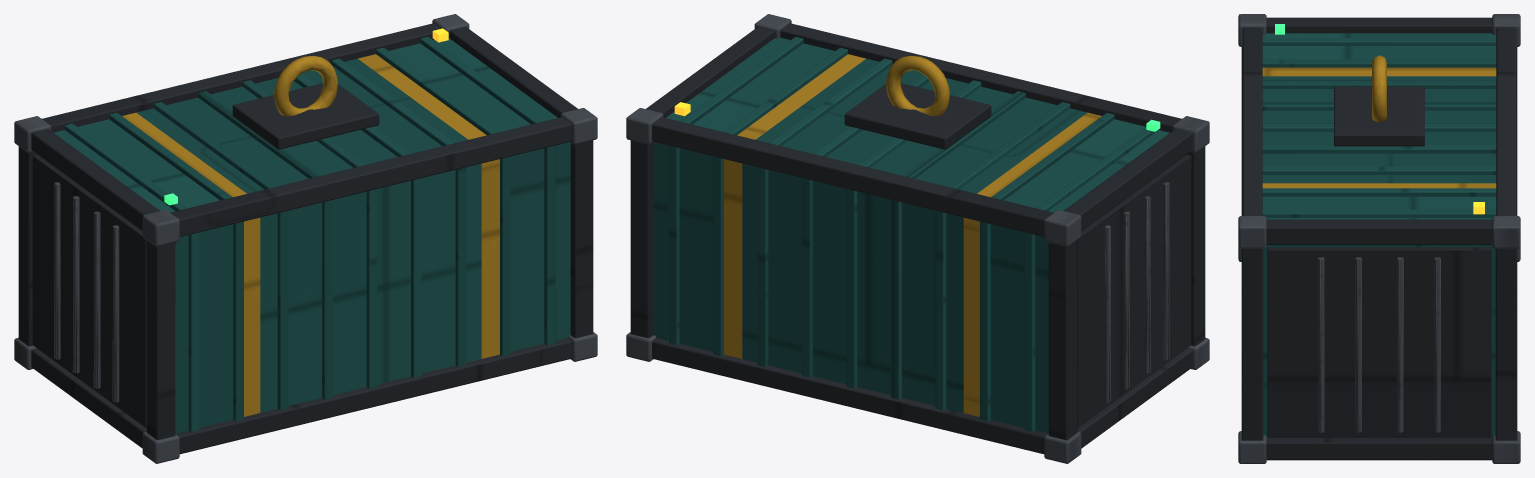
Rendered from place_cargo_pod_standard.glb.
3 renders of one model, left to right at view 1: azimuth 30°, elevation 25°; view 2: azimuth 150°, elevation 25°; view 3: azimuth 270°, elevation 25°, orthographic.
Visible parts, largest first — view 1: LOD0_Hull, LOD0_Armor, LOD0_Warning, LOD0_Mechanical, LOD1_Mechanical, LOD2_Mechanical, LOD2_Warning, LOD1_Armor; view 2: LOD0_Hull, LOD0_Armor, LOD0_Warning, LOD0_Mechanical, LOD1_Mechanical, LOD2_Mechanical, LOD2_Warning, LOD1_Armor; view 3: LOD0_Armor, LOD0_Hull, LOD0_Mechanical, LOD0_Warning, LOD1_Mechanical, LOD2_Mechanical, LOD1_Armor, LOD2_Armor, LOD2_Warning.
Part boxes in pixels (box(x1,y1,x2,y2)): LOD0_Hull: box(54, 37, 570, 433); LOD0_Armor: box(18, 23, 593, 454); LOD0_Warning: box(122, 54, 499, 416); LOD0_Mechanical: box(14, 14, 597, 463); LOD1_Mechanical: box(14, 14, 597, 463); LOD2_Mechanical: box(14, 14, 596, 463); LOD2_Warning: box(274, 56, 337, 116); LOD1_Armor: box(28, 33, 577, 345); LOD0_Hull: box(653, 37, 1169, 433); LOD0_Armor: box(630, 23, 1205, 454); LOD0_Warning: box(724, 54, 1101, 416); LOD0_Mechanical: box(626, 14, 1209, 463); LOD1_Mechanical: box(626, 14, 1209, 463); LOD2_Mechanical: box(626, 14, 1209, 463); LOD2_Warning: box(886, 56, 949, 116); LOD1_Armor: box(720, 25, 1195, 432); LOD0_Armor: box(1241, 17, 1517, 460); LOD0_Hull: box(1262, 33, 1496, 437); LOD0_Mechanical: box(1238, 14, 1520, 463); LOD0_Warning: box(1262, 55, 1496, 188); LOD1_Mechanical: box(1239, 14, 1519, 463); LOD2_Mechanical: box(1239, 14, 1519, 463); LOD1_Armor: box(1242, 17, 1516, 440); LOD2_Armor: box(1242, 25, 1516, 443); LOD2_Warning: box(1372, 55, 1386, 120).
Size of what is drawn, in the model's own units: 6.12 by 3.98 by 3.4.
10 materials, 8 textured.
